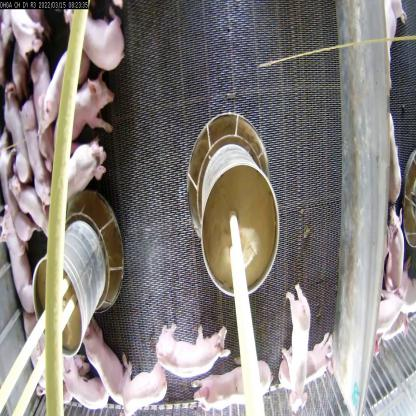Pig: (152, 313, 240, 390), (75, 321, 141, 415), (56, 0, 127, 64), (42, 145, 116, 206), (15, 90, 51, 214), (57, 73, 120, 143), (23, 48, 64, 155), (37, 43, 84, 130), (0, 200, 33, 318), (286, 288, 316, 416), (119, 355, 178, 415), (274, 336, 339, 390), (203, 370, 272, 415), (60, 365, 109, 415), (0, 148, 27, 228), (15, 180, 40, 230)
